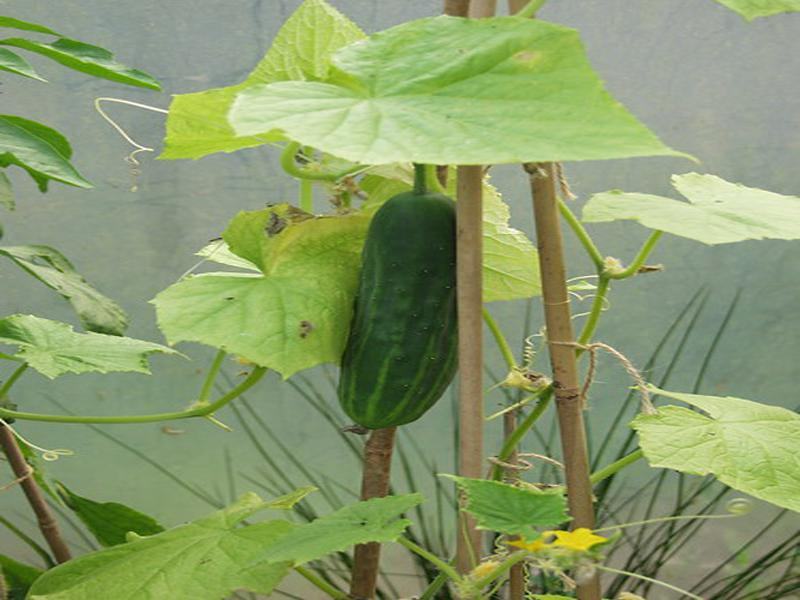Cucumber: (335, 191, 459, 433)
